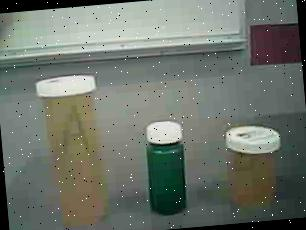Bottle A: (31, 65, 125, 230)
Bottle B: (218, 120, 288, 214)
Bottle C: (140, 116, 195, 221)
